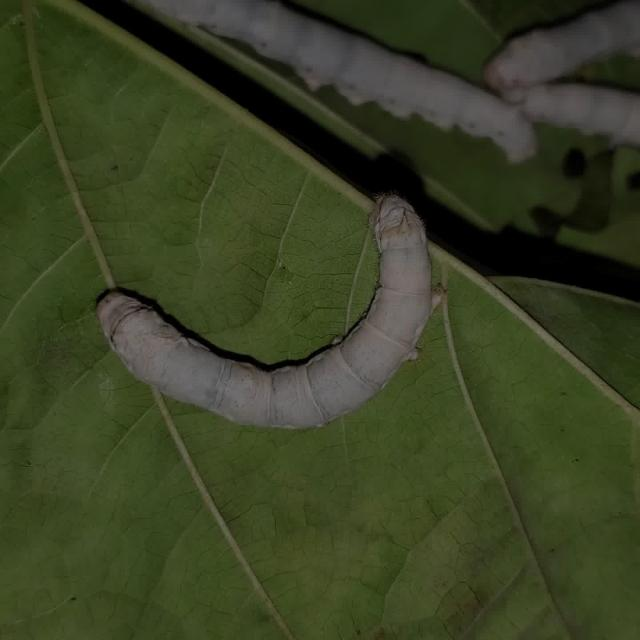Healthy: (92, 185, 450, 438)
